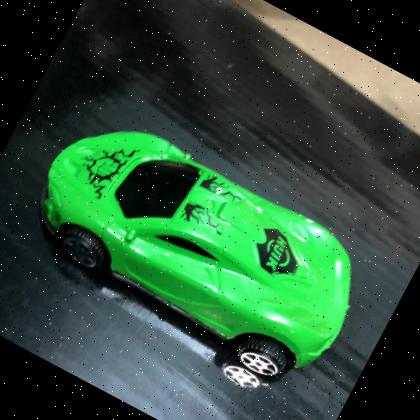Car: (38, 132, 351, 379)
